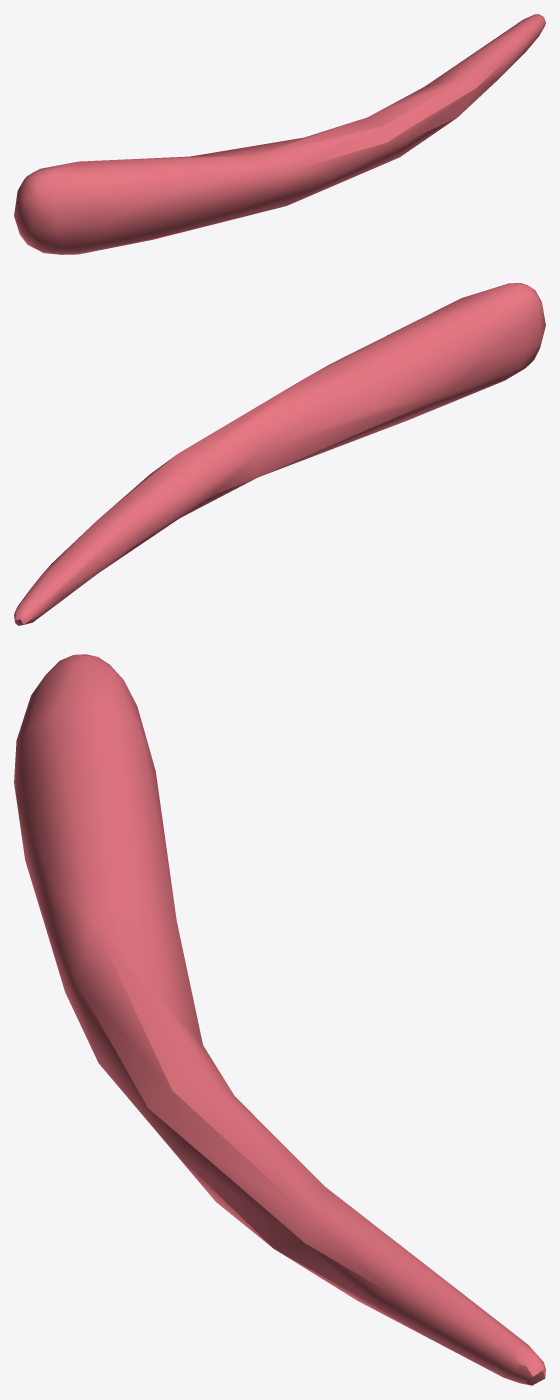
Rendered from fma9438_fj2926.glb.
3 renders of one model, top to bottom at view 1: azimuth 30°, elevation 25°; view 2: azimuth 210°, elevation 25°; view 3: azimuth 270°, elevation 25°, orthographic. The views are drawn at different scales.
Parts seen in each view (by area): view 1: FMA9438_FJ2926; view 2: FMA9438_FJ2926; view 3: FMA9438_FJ2926.
Part boxes in pixels (<box>): FMA9438_FJ2926: <box>14,14,545,254</box>; FMA9438_FJ2926: <box>14,283,545,625</box>; FMA9438_FJ2926: <box>14,654,545,1385</box>.
Size of the model in its own units: 0.0379 by 0.00615 by 0.0148.
